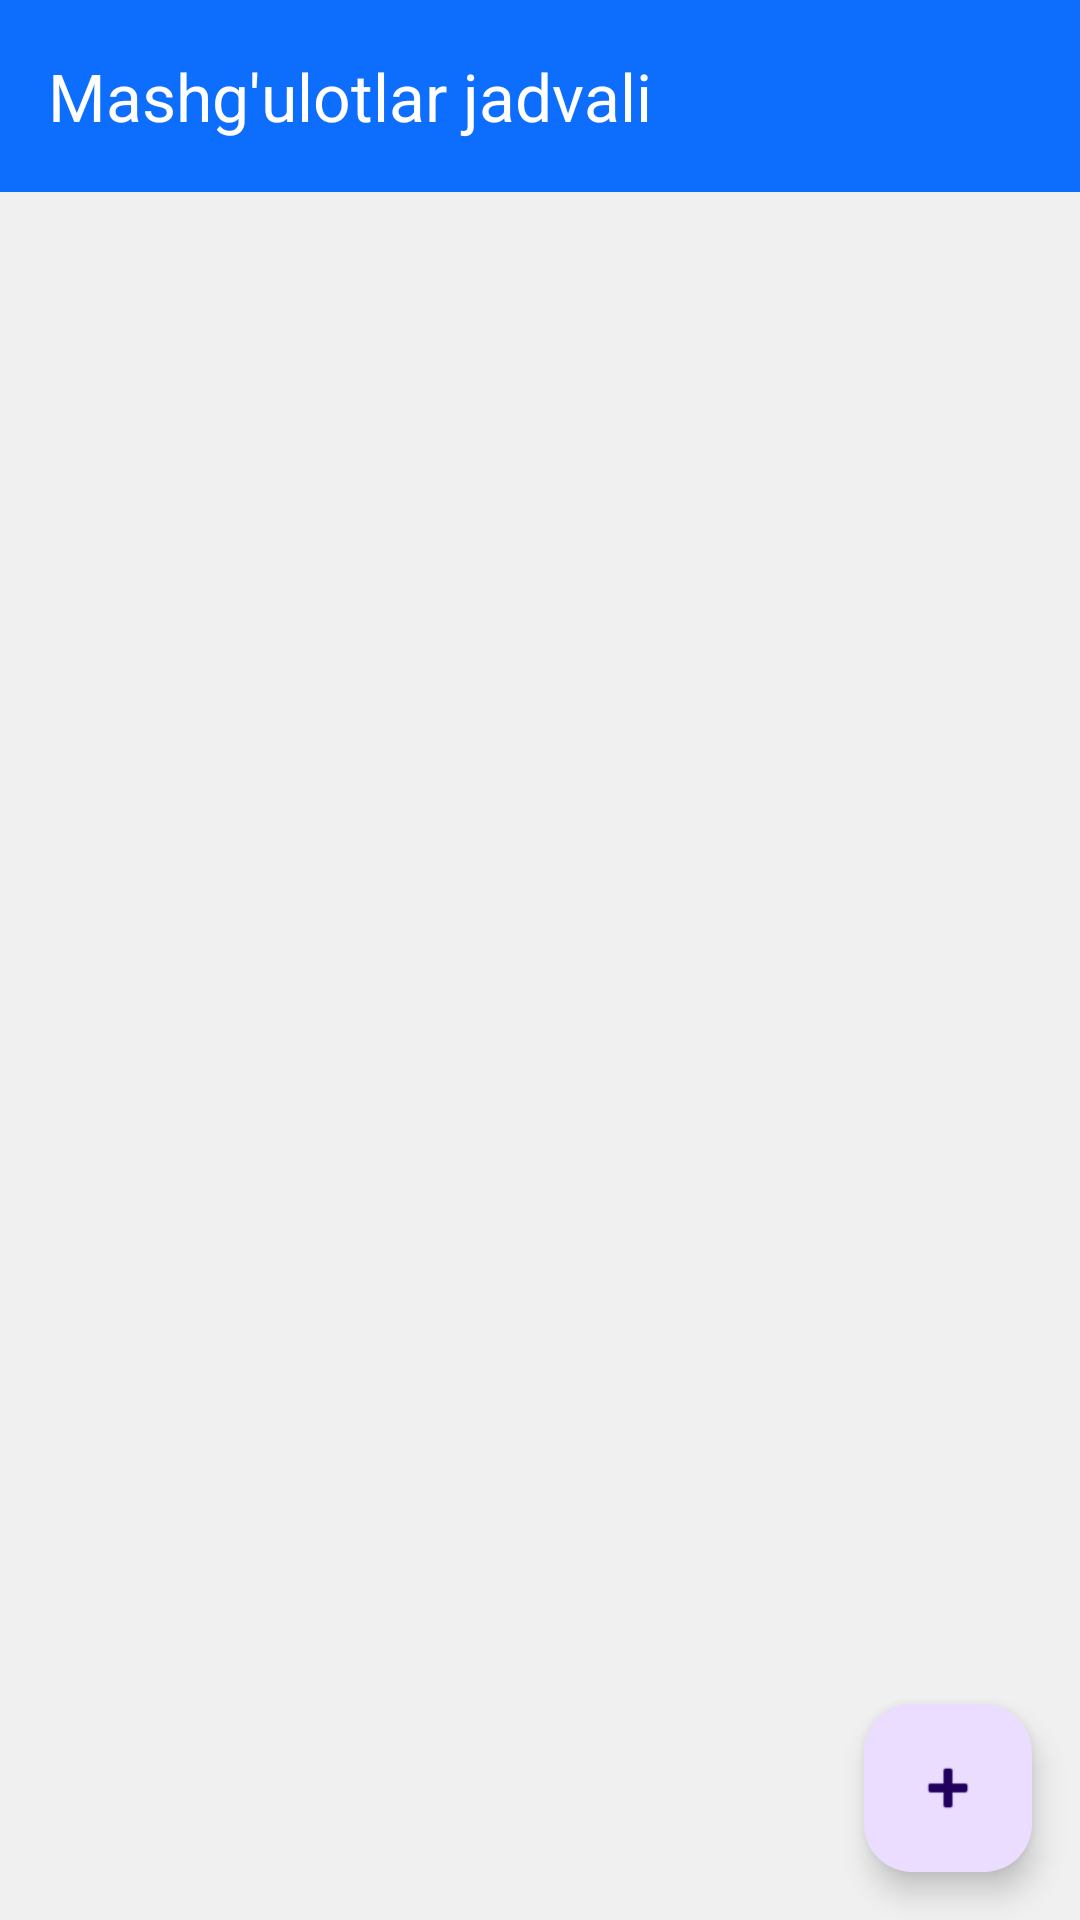

Where icons sit on this 1080×1920 app screen, as (x1, y1, x2, y2):
Yangi jadval qo'shish: (864, 1704, 1032, 1872)
